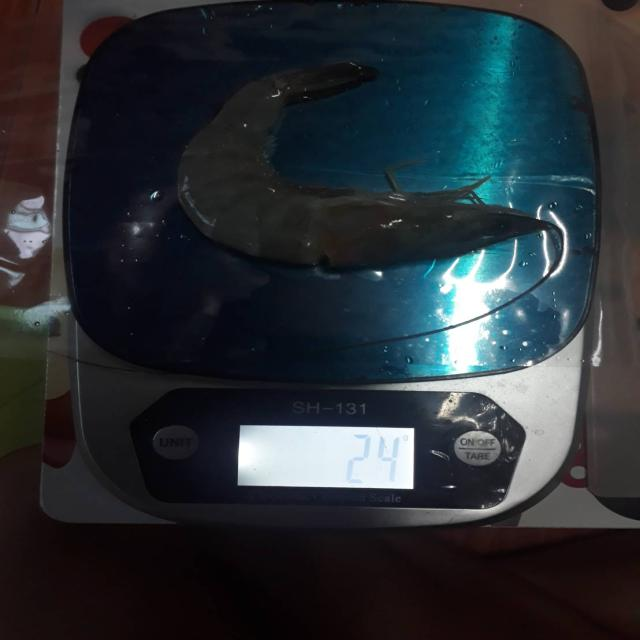2: (346, 432, 373, 486)
4: (376, 432, 402, 487)
screen: (239, 424, 416, 489)
